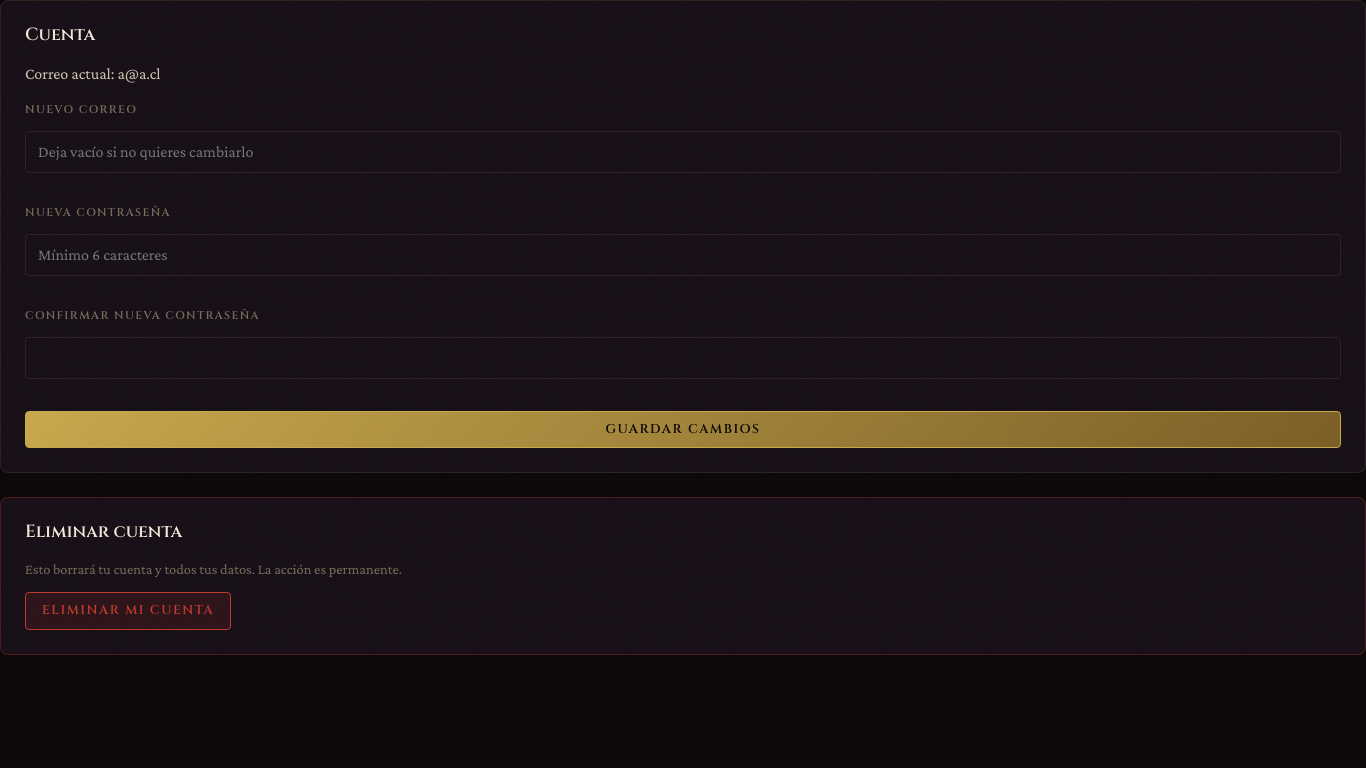
Test: CuentaTab › muestra error cuando no hay cambios para guardar
This screenshot has width=1366, height=768.
Click the button "Guardar cambios": (683,429) [25, 410, 1341, 448]
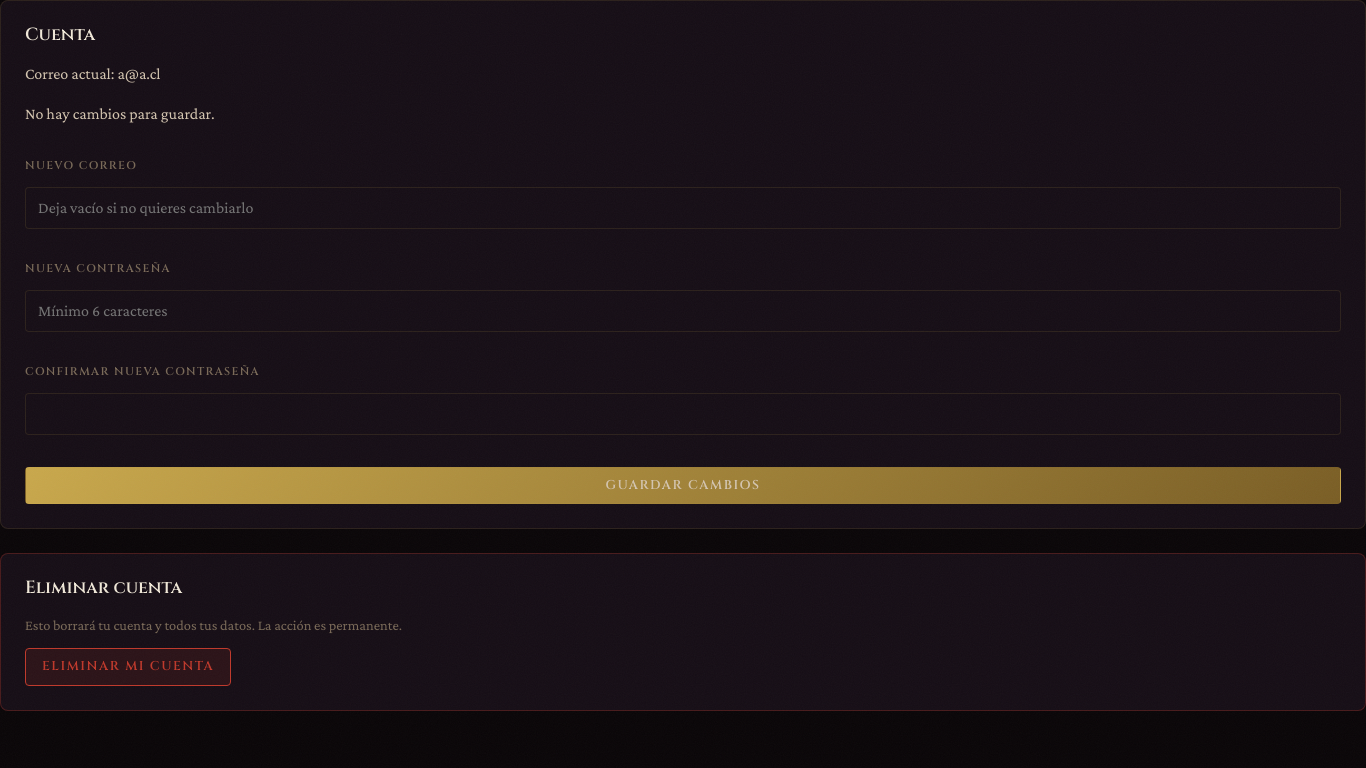
Check: the text "No hay cambios para guardar." is shown, box [25, 105, 215, 122]
